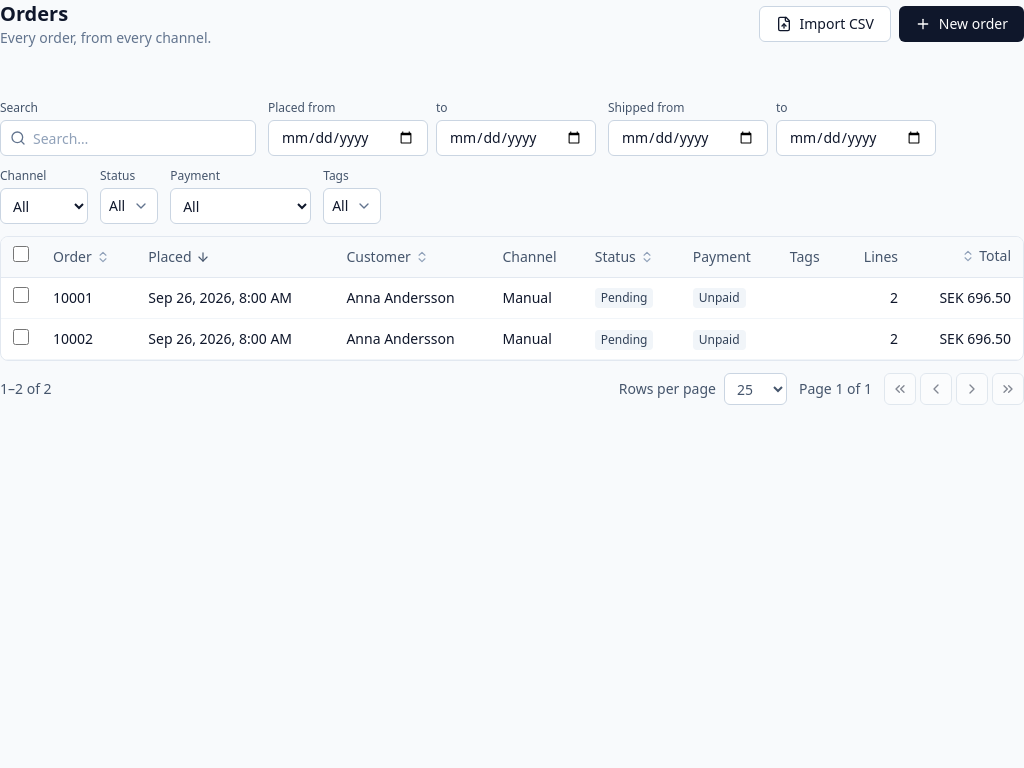
Scenario: keyboard shortcuts on the order pages › the order list › opens "Add tag" for the selected orders with t, and says to select first
The image size is (1024, 768).
Expected: the link "10001" is shown, [53,288,93,307]
Step 1. Press t
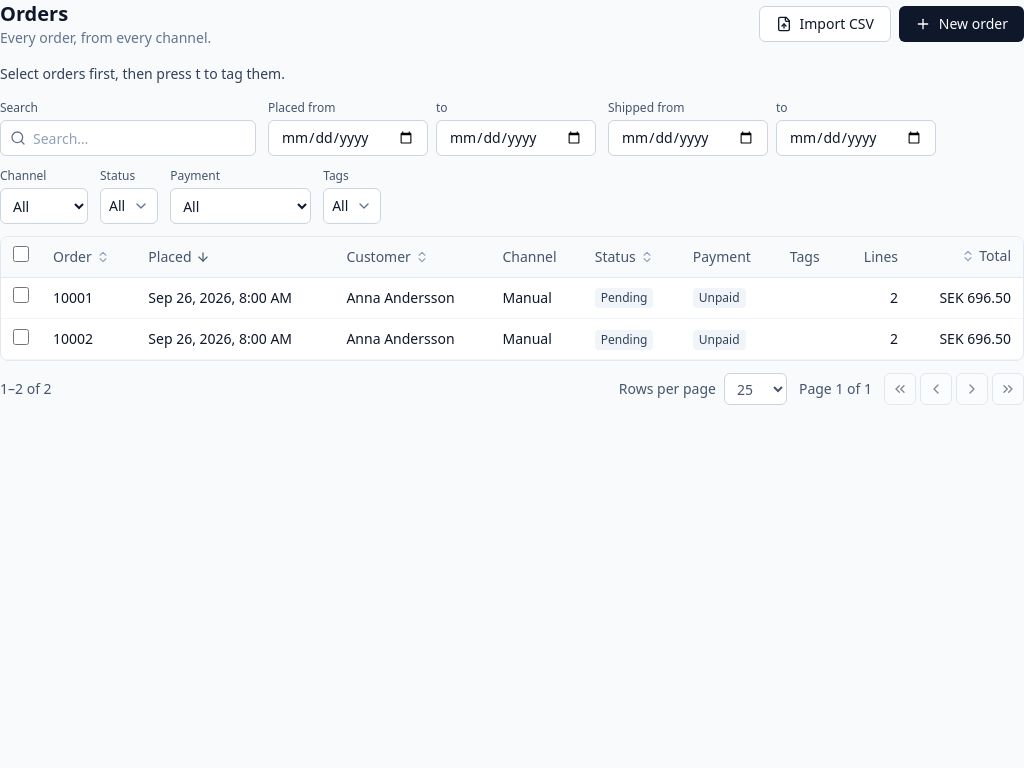
Expected: the text "Select orders first, then press t to tag them." is shown, [0,64,285,83]
Step 2. Click the checkbox named "10002" → (21, 336), box [13,328,29,344]
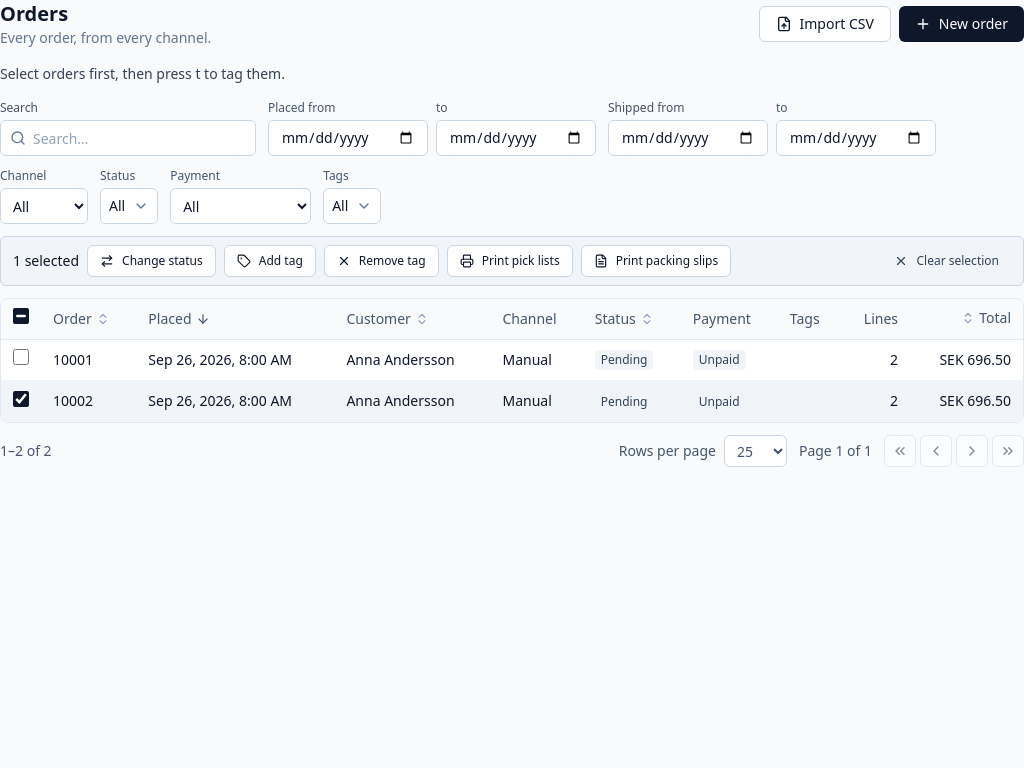
Step 3. Press t in the checkbox named "10002", box [13,390,29,406]
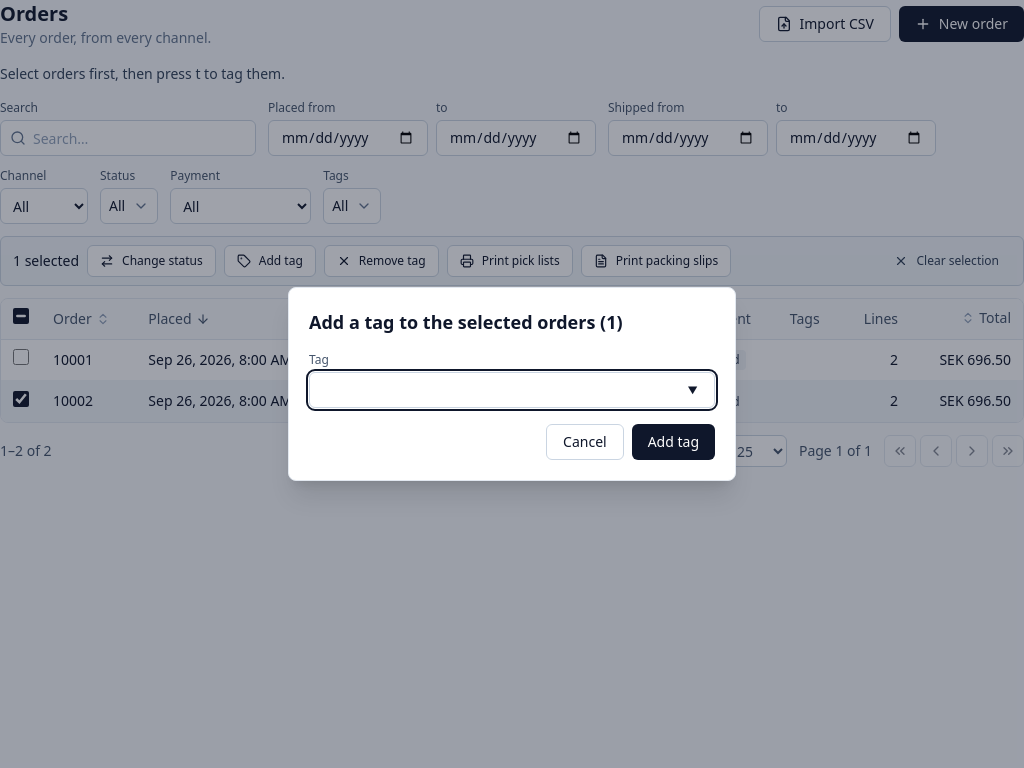
Expected: the dialog "Add a tag to the selected orders (1)" is shown, [288,287,736,481]
